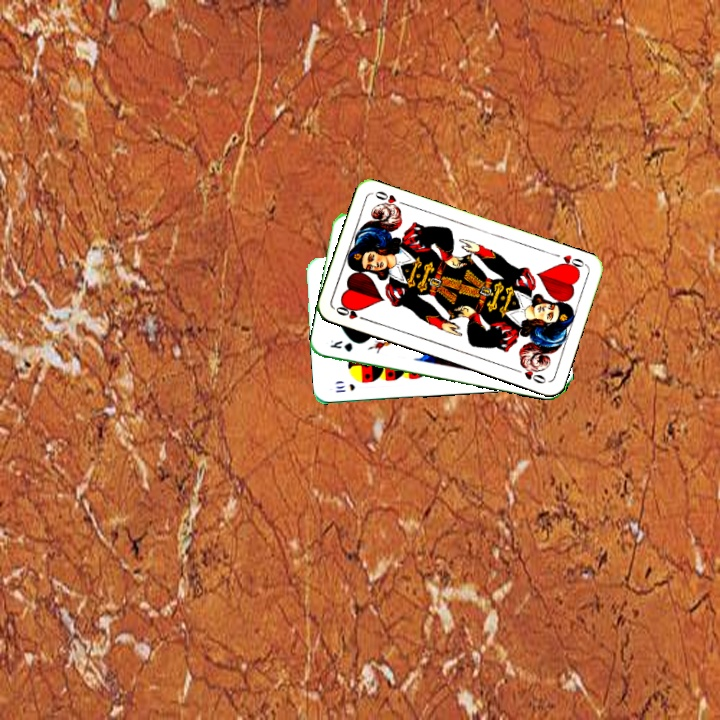GK: (326, 336, 355, 354)
HO: (332, 300, 371, 323), (555, 251, 588, 274)
S10: (331, 380, 357, 395)
